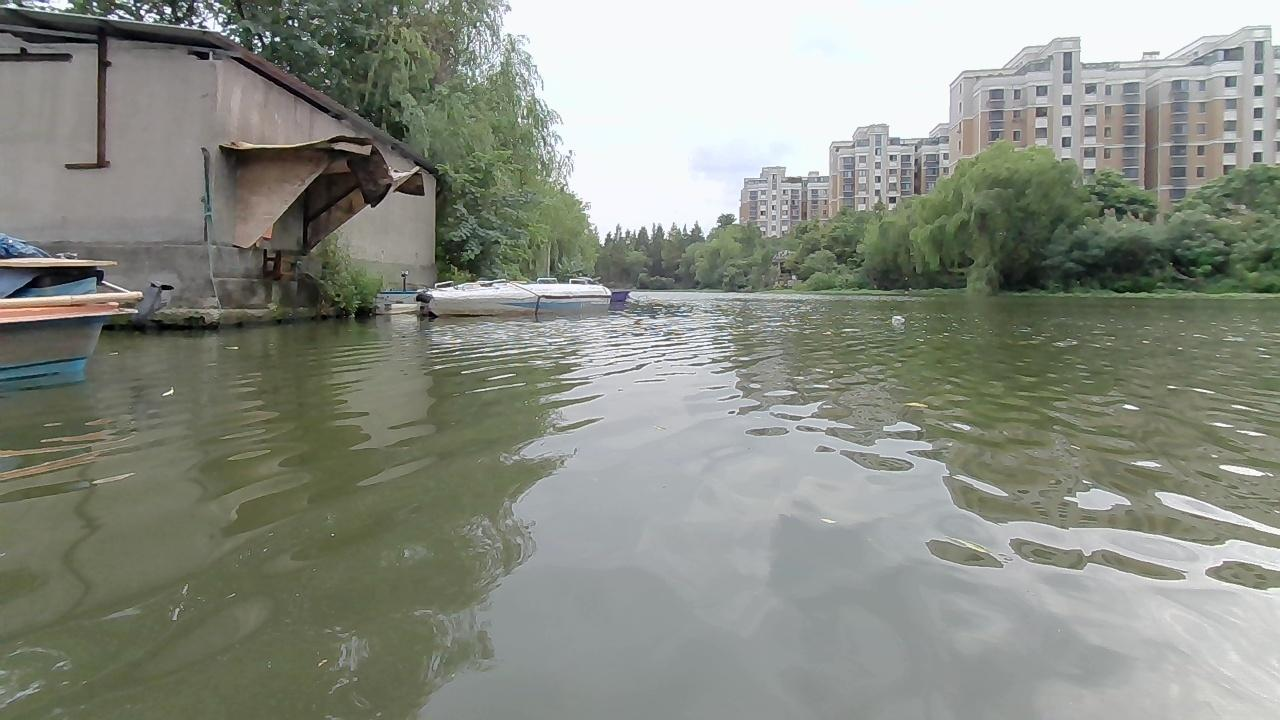bottle: (892, 312, 904, 328)
